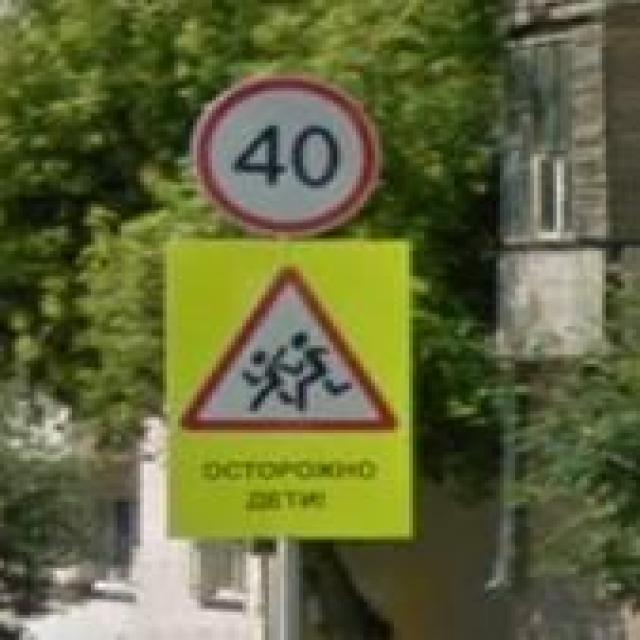Ograniczenie predkosci do 40: (193, 78, 386, 238)
